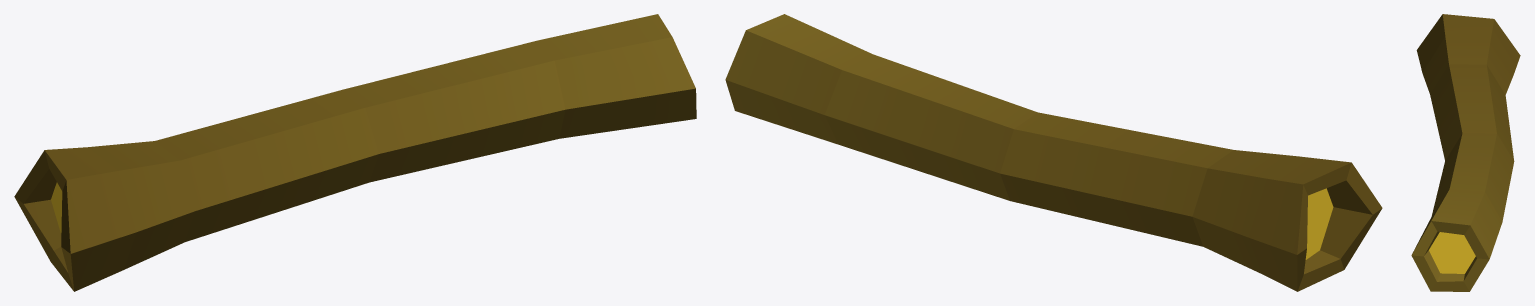
Rendered from log_1.glb.
The picture shows the model from 3 angles, left to right: view 1: azimuth 30°, elevation 25°; view 2: azimuth 150°, elevation 25°; view 3: azimuth 270°, elevation 25°; orthographic projection. The views are drawn at different scales.
Visible parts, largest first — view 1: log_1; view 2: log_1; view 3: log_1.
Boxes of the visible parts, x1,y1,x2,y2 form: log_1: (14, 14, 696, 291); log_1: (725, 14, 1382, 291); log_1: (1411, 14, 1520, 291).
Size of the model in its own units: 3.04 by 0.5309 by 0.6297.
Materials: 1 (1 with a texture image).
